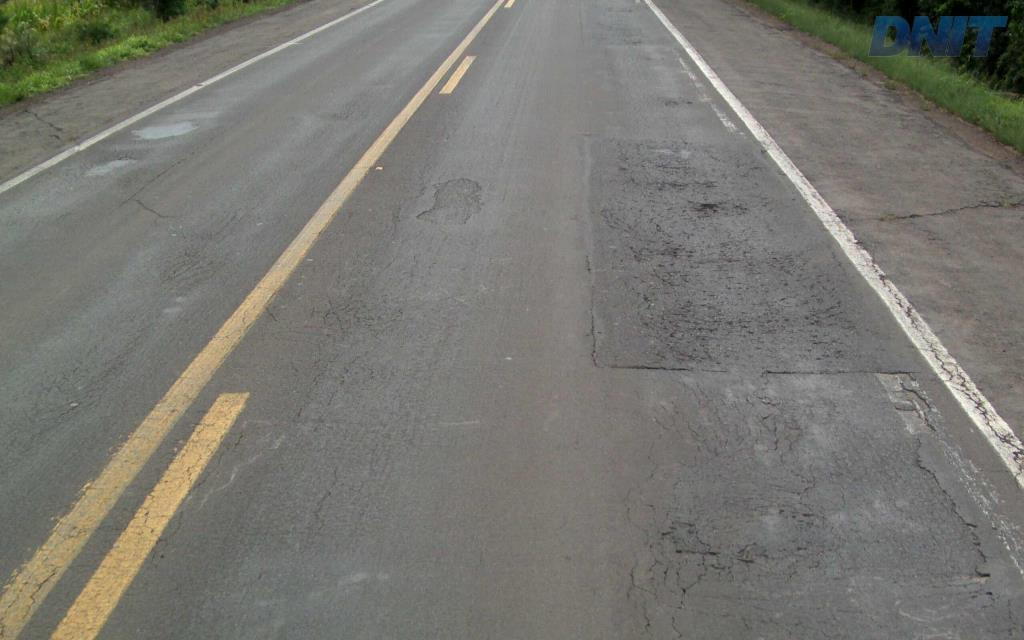crack: (637, 299, 725, 364), (657, 521, 731, 596), (911, 453, 978, 532), (803, 300, 852, 327)
pothole: (411, 173, 487, 229), (884, 365, 937, 435), (690, 198, 736, 225)
